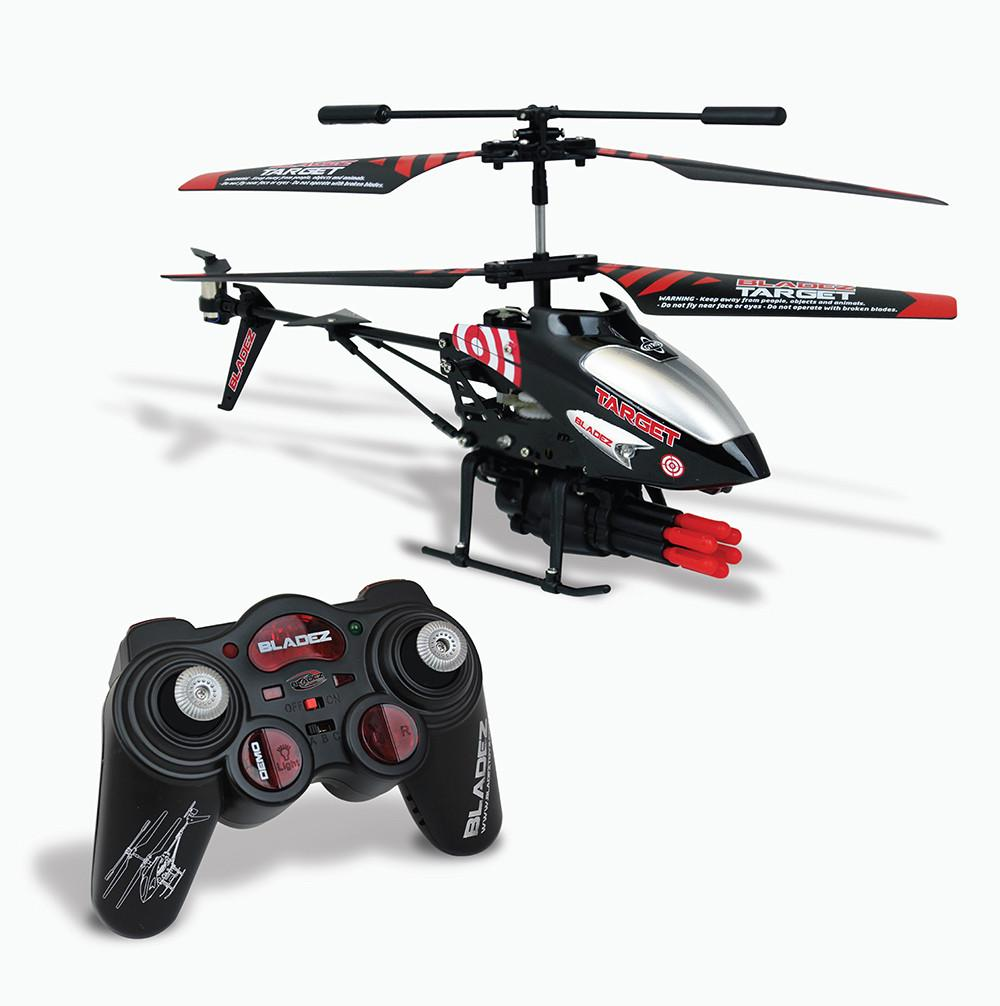Helicopter: (179, 110, 932, 510)
